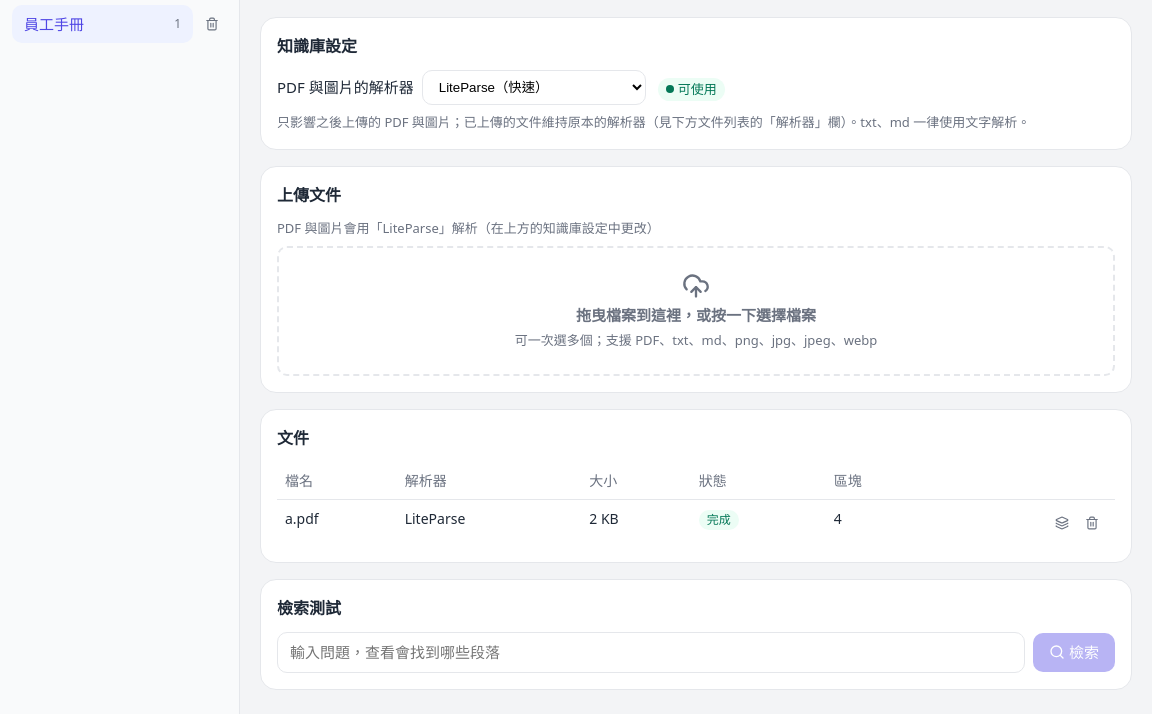
Test case: KbPage › searches with the server default when the weight settings cannot be loaded
(page scrolled)
Type "q" into the field named "檢索問題" at point(651, 652), box [277,632,1025,672]
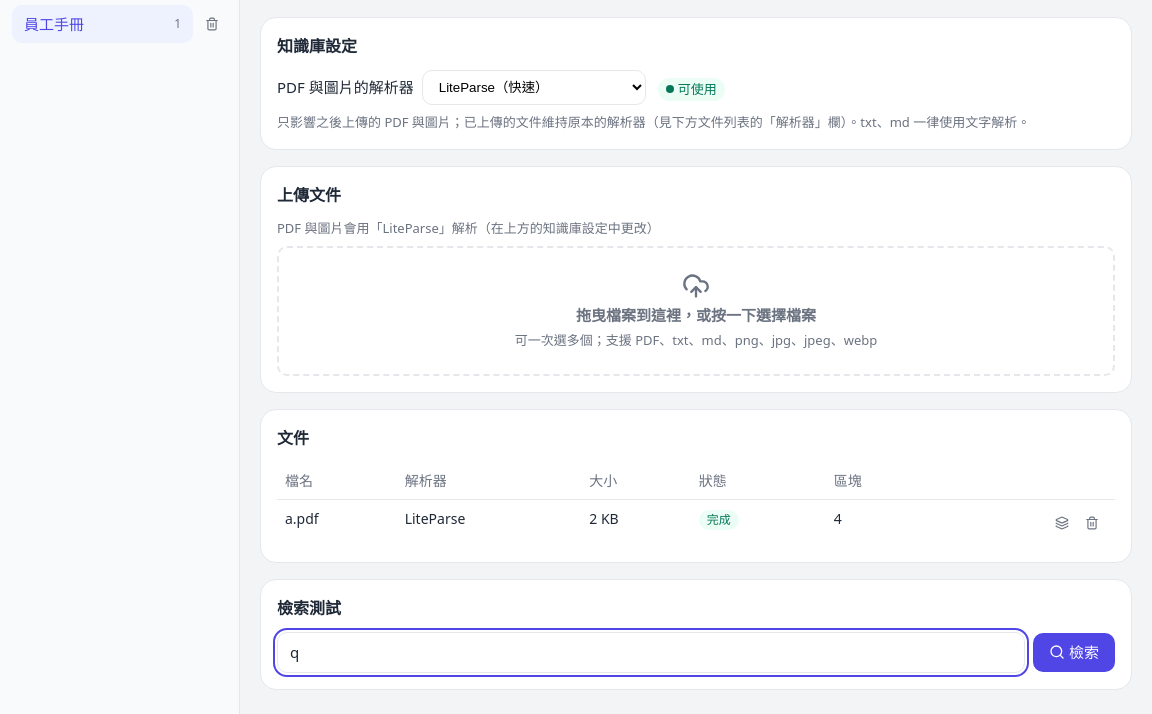
Click the button "檢索" at point(1074, 652), box [1033,633,1115,672]
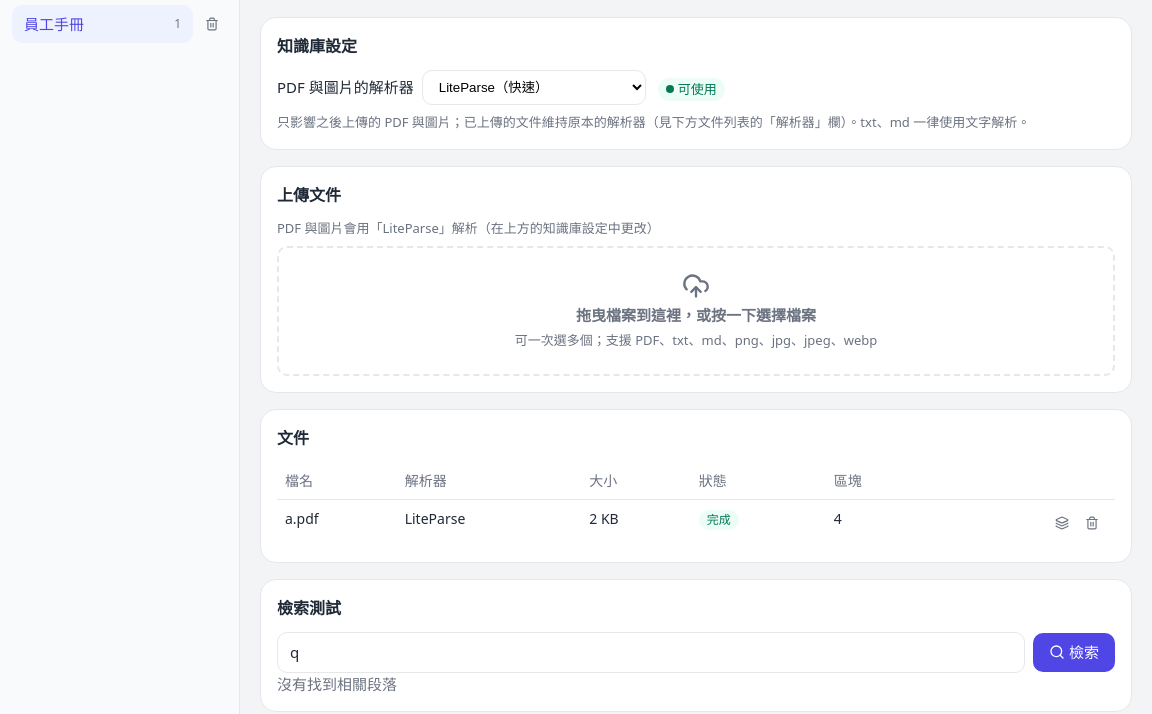
Now the text "沒有找到相關段落" is shown, box [277,674,397,694]
